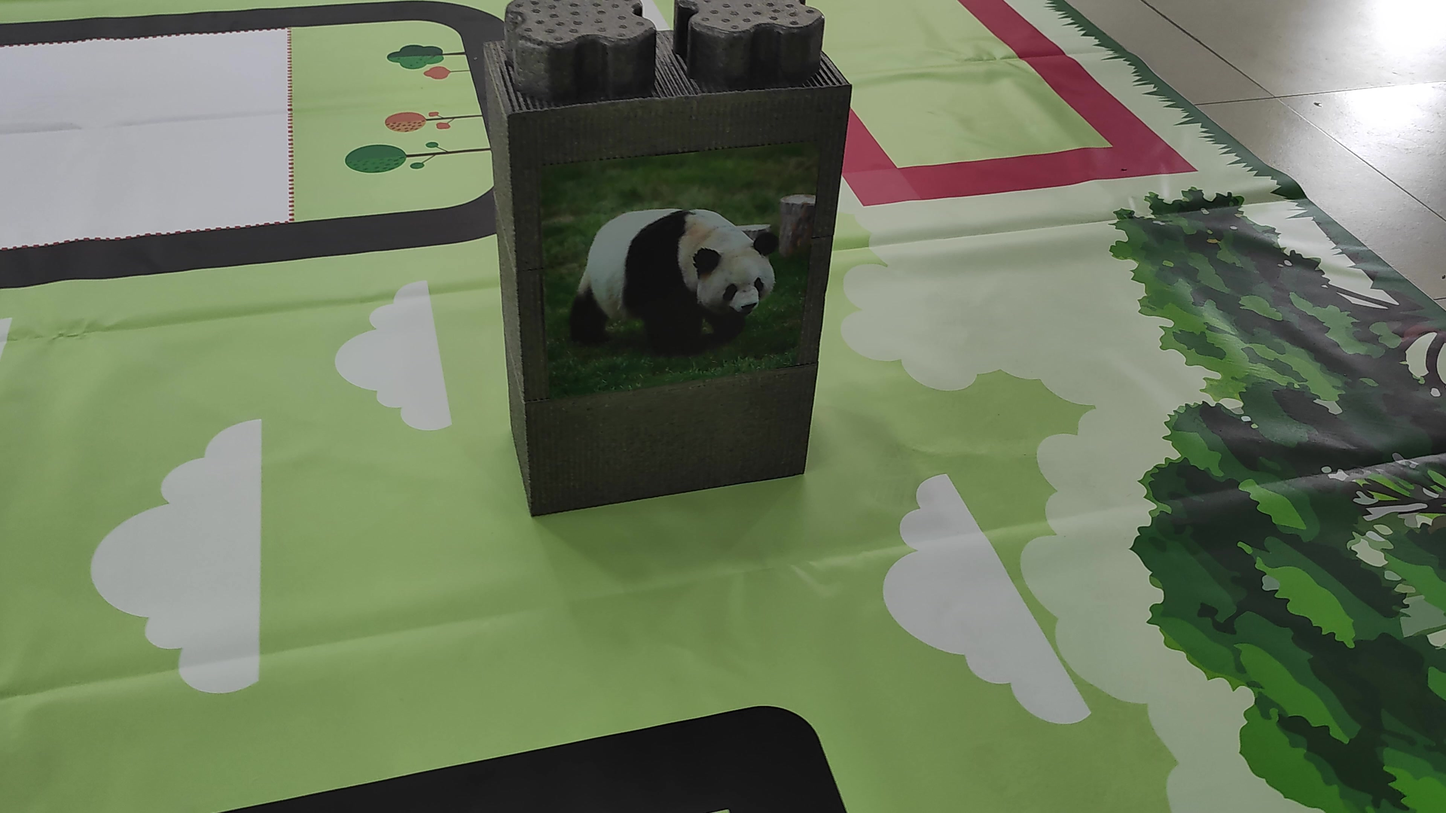panda: (567, 193, 787, 352)
